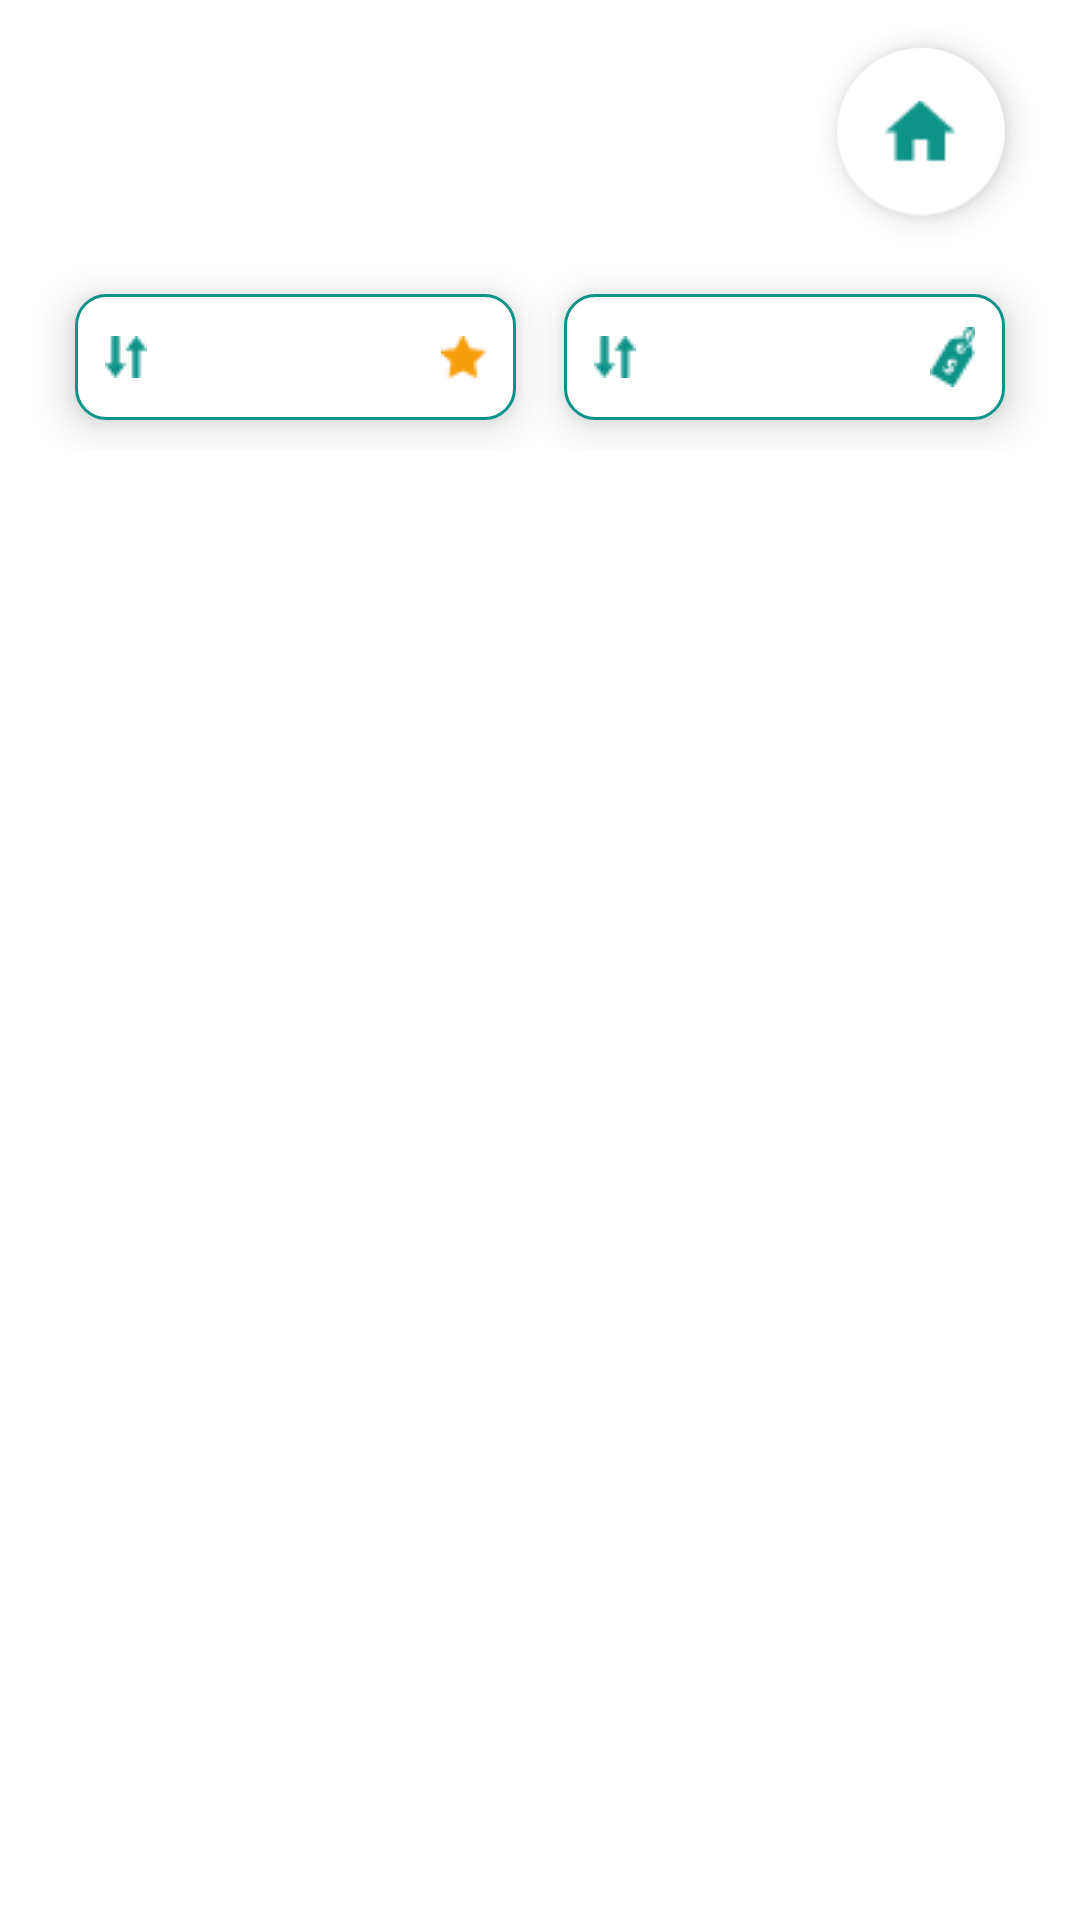

Icons on this 1080×1920 Android screen, each with its box as Rect(x1, y1, x2, y2):
arrow swap: Rect(105, 336, 147, 378), Rect(594, 336, 636, 378)
Home: Rect(885, 66, 1005, 216)
price tag: Rect(930, 327, 975, 387)
star: Rect(441, 336, 486, 378)
